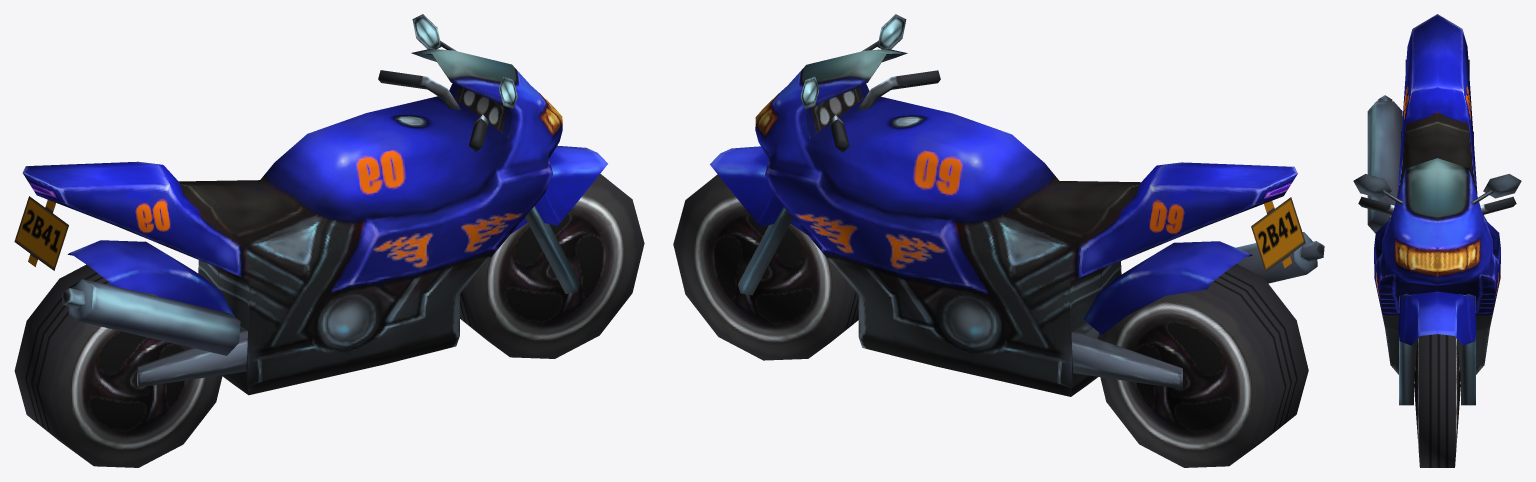
The model's file is motuoche_02.FBX.
3 views of the same model, side by side, from view 1: azimuth 30°, elevation 25°; view 2: azimuth 150°, elevation 25°; view 3: azimuth 270°, elevation 25° (orthographic). The views are drawn at different scales.
Parts seen in each view (by area): view 1: motuoche_02; view 2: motuoche_02; view 3: motuoche_02.
Boxes of the visible parts, bbox=[...] form: motuoche_02: bbox=[14, 14, 644, 467]; motuoche_02: bbox=[673, 14, 1324, 467]; motuoche_02: bbox=[1353, 14, 1521, 467].
Bounding box in the file's own units: 9.42 × 4.78 × 2.82.
1 material, 1 textured.
